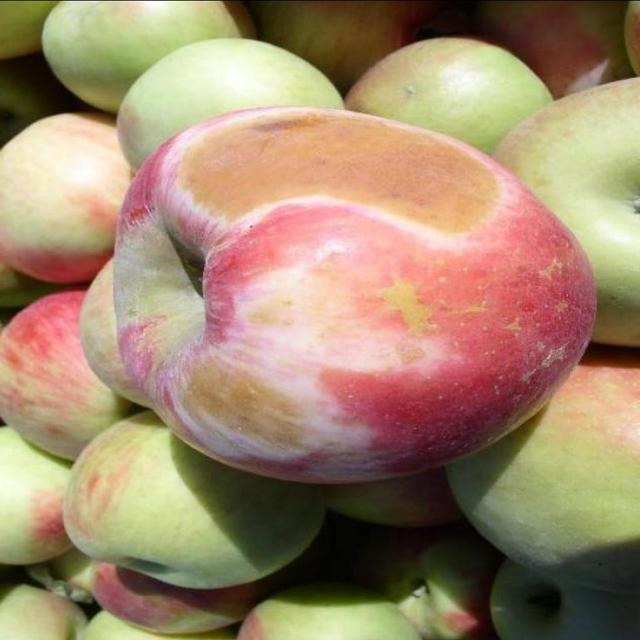Sunscald Fruit: (107, 62, 346, 169)
